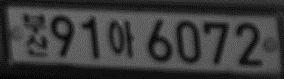0: (174, 19, 202, 63)
1: (78, 14, 104, 59)
2: (234, 21, 262, 66)
6: (146, 19, 173, 62)
7: (203, 20, 230, 64)
9: (50, 15, 75, 57)
부산_V: (22, 13, 49, 57)
아: (106, 19, 135, 56)
